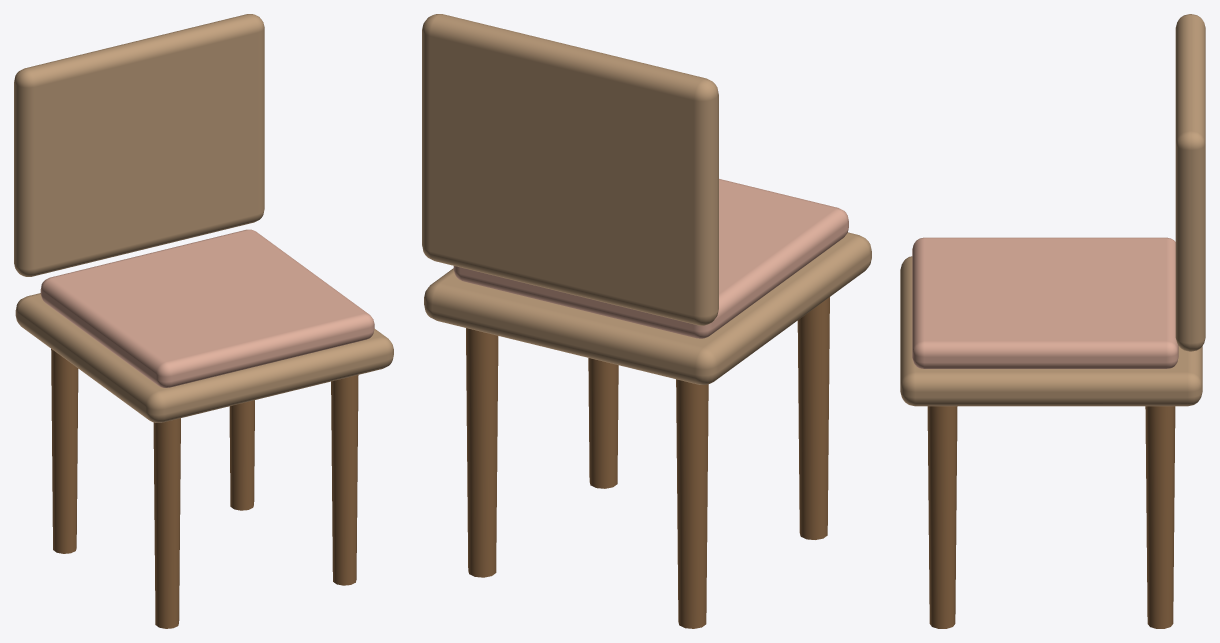
File: furn_chair_ph.glb
3 renders of one model, left to right at view 1: azimuth 30°, elevation 25°; view 2: azimuth 150°, elevation 25°; view 3: azimuth 270°, elevation 25°, orthographic. The views are drawn at different scales.
Parts seen in each view (by area): view 1: furn_chair; view 2: furn_chair; view 3: furn_chair.
Boxes of the visible parts, <box> form: furn_chair: <box>14,14,393,628</box>; furn_chair: <box>422,14,871,628</box>; furn_chair: <box>900,14,1205,628</box>.
Bounding box in the file's own units: 0.5 × 0.92 × 0.505.
